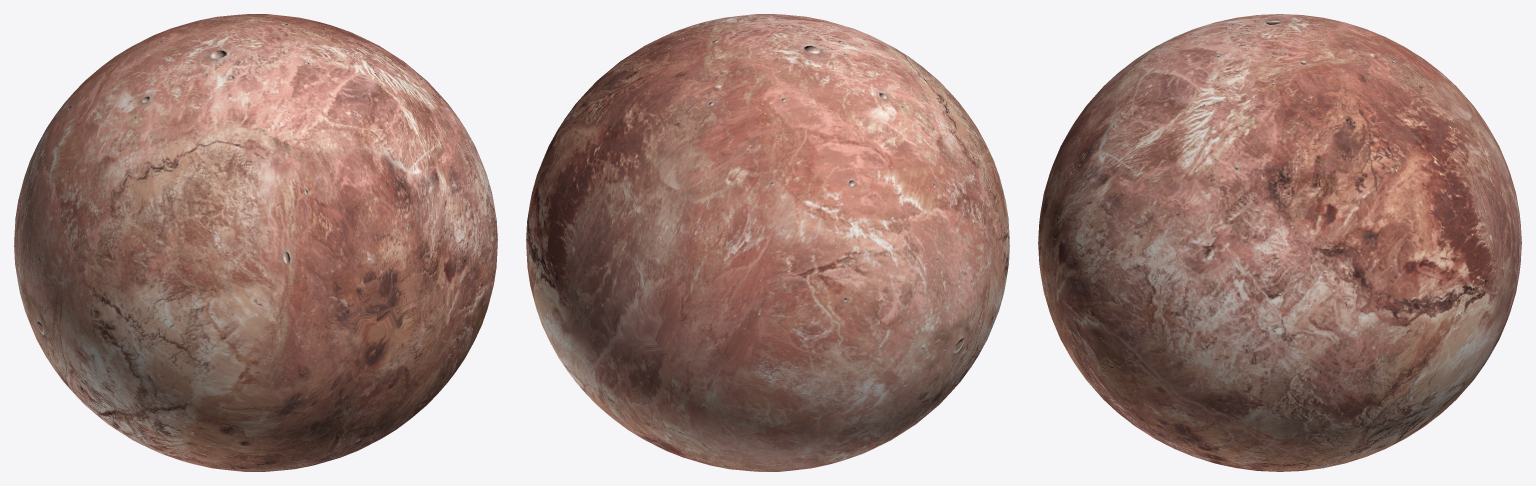
Rendered from Makemake.glb.
The picture shows the model from 3 angles, left to right: view 1: azimuth 30°, elevation 25°; view 2: azimuth 150°, elevation 25°; view 3: azimuth 270°, elevation 25°; orthographic projection.
Visible parts, largest first — view 1: cubemap; view 2: cubemap; view 3: cubemap.
Boxes of the visible parts, x1,y1,x2,y2 form: cubemap: [14, 14, 497, 471]; cubemap: [526, 14, 1009, 471]; cubemap: [1038, 14, 1521, 471].
Bounding box in the file's own units: 0.9762 × 0.9129 × 0.9762.
1 material, 1 textured.
